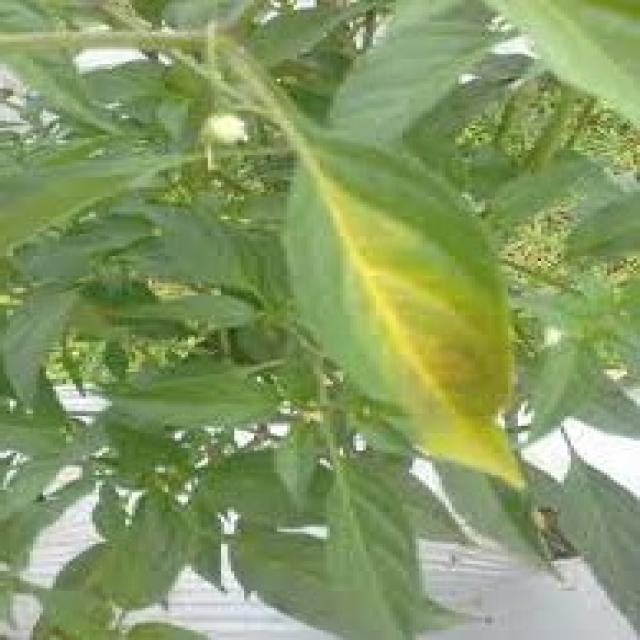virus_kuning: (266, 152, 519, 348)
